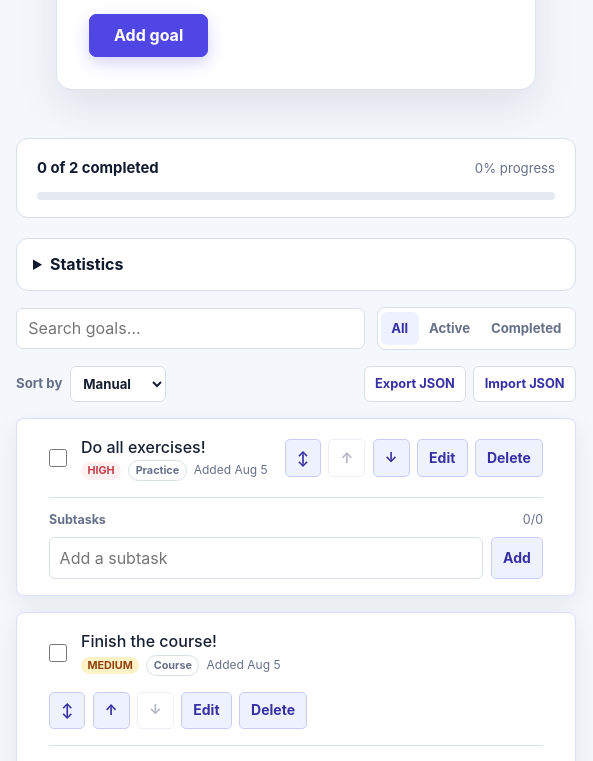
Test: Course Goals › exports goals as a JSON download
(page scrolled)
Click the button "Export JSON": (415,384) [364,366,466,402]
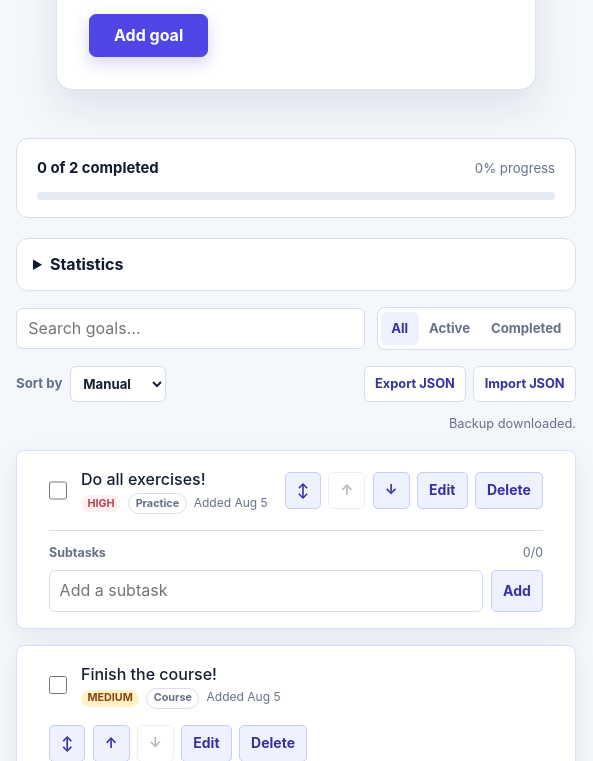
Result: the text "Backup downloaded." is shown at [449,416,576,431]
